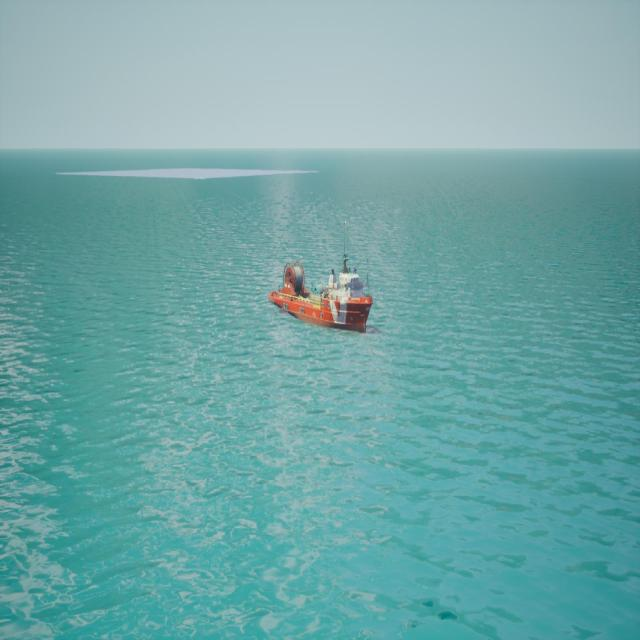tug boat: (269, 229, 378, 341)
